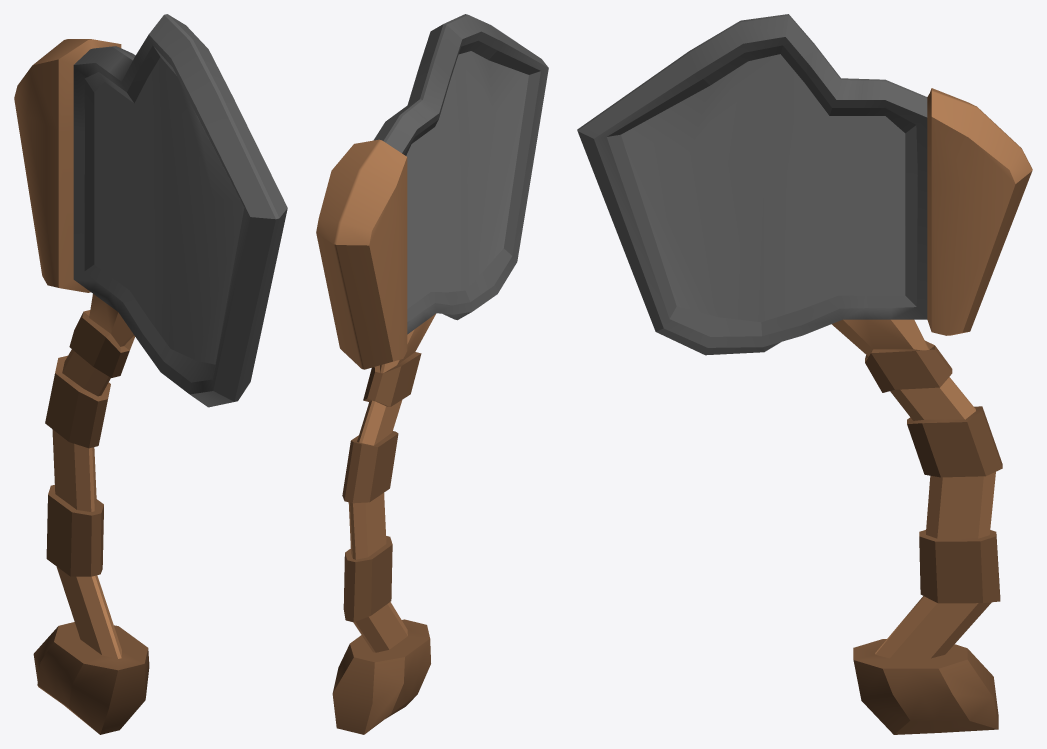
Rendered from Axe.fbx.
The picture shows the model from 3 angles, left to right: view 1: azimuth 30°, elevation 25°; view 2: azimuth 150°, elevation 25°; view 3: azimuth 270°, elevation 25°; orthographic projection. The views are drawn at different scales.
Parts seen in each view (by area): view 1: Axe; view 2: Axe; view 3: Axe.
Boxes of the visible parts, x1=… form: Axe: x1=14, y1=14, x2=287, y2=734; Axe: x1=316, y1=14, x2=548, y2=734; Axe: x1=577, y1=14, x2=1032, y2=734.
Bounding box in the file's own units: 2.56 × 22.52 × 12.98.
